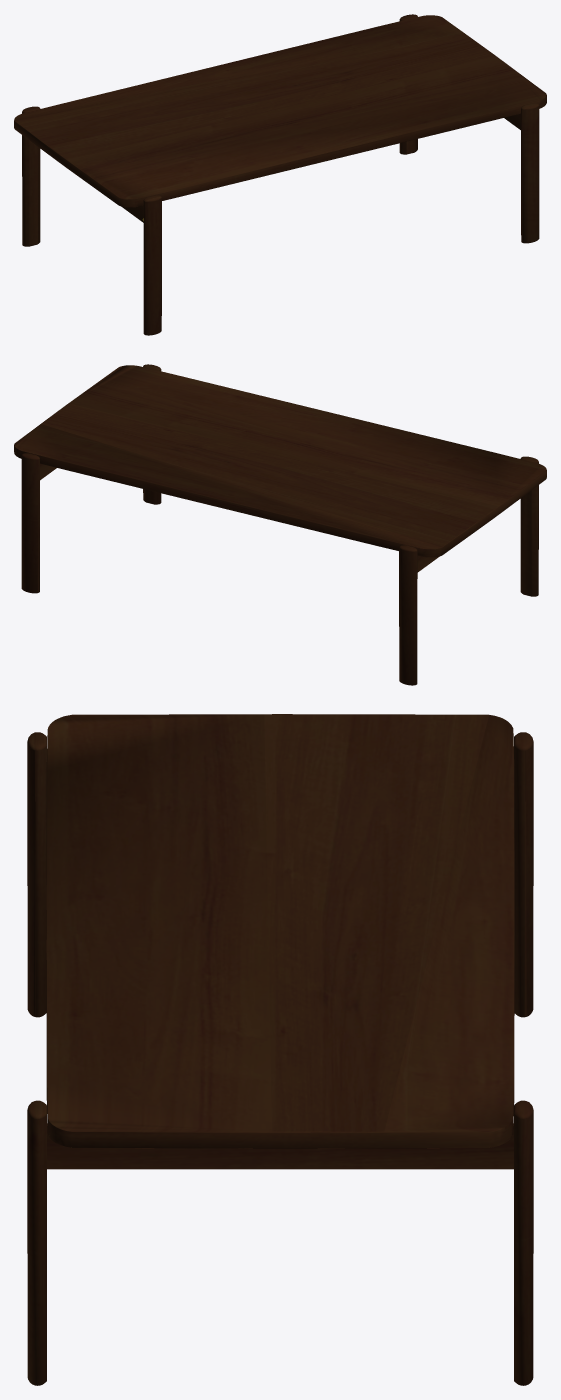
Rendered from CentralDesk.fbx.
3 views of the same model, one above another, from view 1: azimuth 30°, elevation 25°; view 2: azimuth 150°, elevation 25°; view 3: azimuth 270°, elevation 25° (orthographic). The views are drawn at different scales.
Parts seen in each view (by area): view 1: table-83456_641_frame_dark_brown; view 2: table-83456_641_frame_dark_brown; view 3: table-83456_641_frame_dark_brown.
Part boxes in pixels (bbox=[...]): table-83456_641_frame_dark_brown: bbox=[14, 14, 546, 335]; table-83456_641_frame_dark_brown: bbox=[14, 364, 546, 685]; table-83456_641_frame_dark_brown: bbox=[27, 714, 533, 1385].
Size of the model in its own units: 2.81 by 0.85 by 1.44.
1 material, 1 textured.
